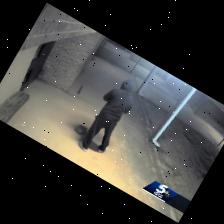person: (79, 80, 135, 153)
